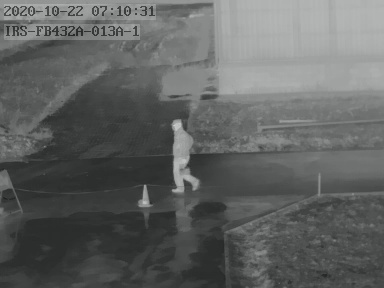person: (170, 118, 199, 192)
